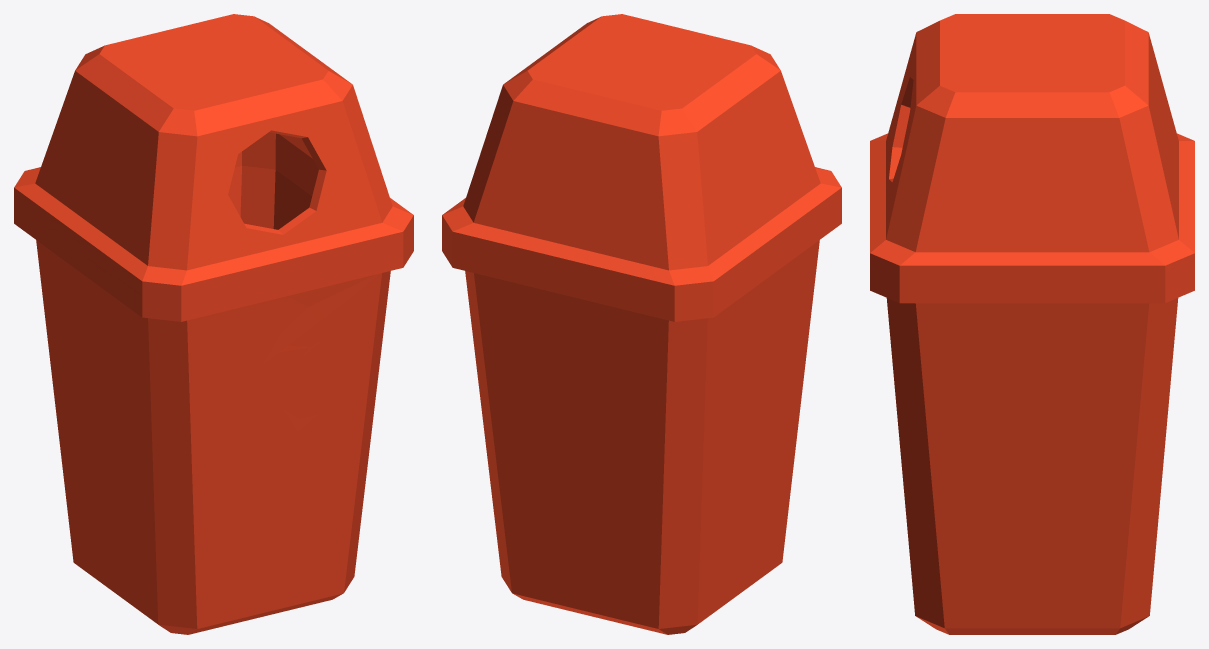
File: SM_Bin_A_City.fbx
The picture shows the model from 3 angles, left to right: view 1: azimuth 30°, elevation 25°; view 2: azimuth 150°, elevation 25°; view 3: azimuth 270°, elevation 25°; orthographic projection. The views are drawn at different scales.
Visible parts, largest first — view 1: SM_Bin_A_City; view 2: SM_Bin_A_City; view 3: SM_Bin_A_City.
Boxes of the visible parts, x1=… form: SM_Bin_A_City: x1=14, y1=14, x2=413, y2=634; SM_Bin_A_City: x1=442, y1=14, x2=841, y2=634; SM_Bin_A_City: x1=870, y1=14, x2=1194, y2=634.
Bounding box in the file's own units: 0.6208 × 1.14 × 0.6208.
